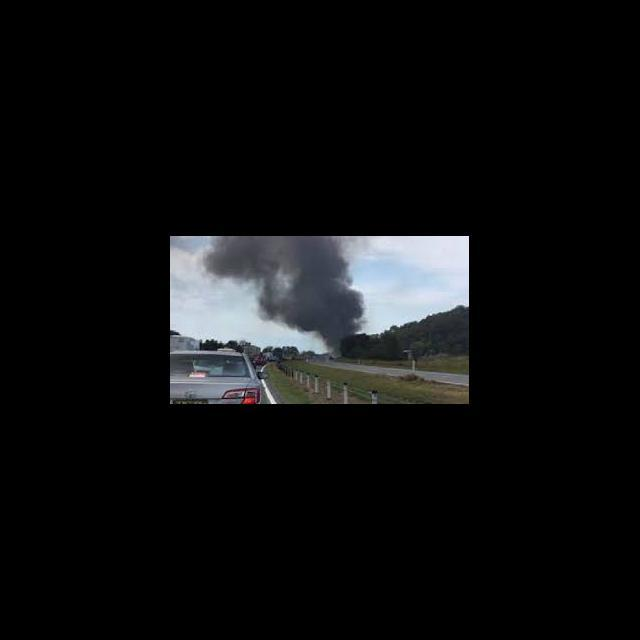Smoke: (201, 236, 379, 354)
